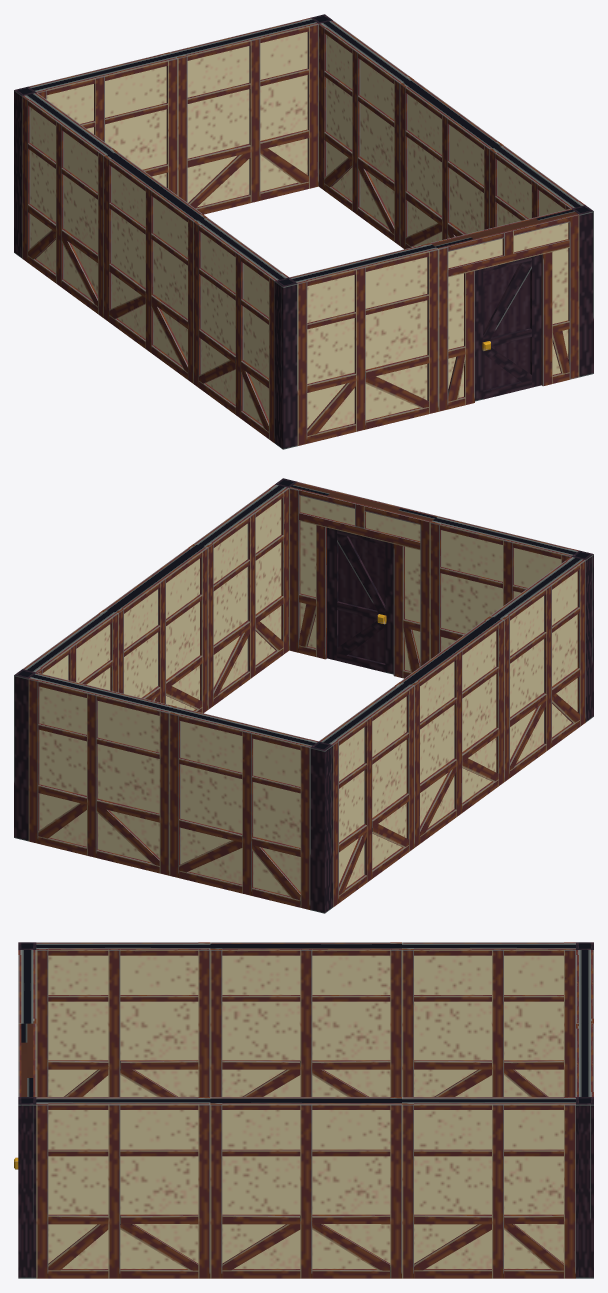
The model's file is Bedroom.fbx.
3 renders of one model, top to bottom at view 1: azimuth 30°, elevation 25°; view 2: azimuth 150°, elevation 25°; view 3: azimuth 270°, elevation 25°, orthographic. The views are drawn at different scales.
Parts seen in each view (by area): view 1: BedroomWalls.001; view 2: BedroomWalls.001; view 3: BedroomWalls.001.
Boxes of the visible parts, left/top/right/bottom form: BedroomWalls.001: left=14, top=14, right=593, bottom=449; BedroomWalls.001: left=14, top=478, right=593, bottom=913; BedroomWalls.001: left=14, top=942, right=593, bottom=1278.
Size of the model in its own units: 8 by 12.09 by 4.
